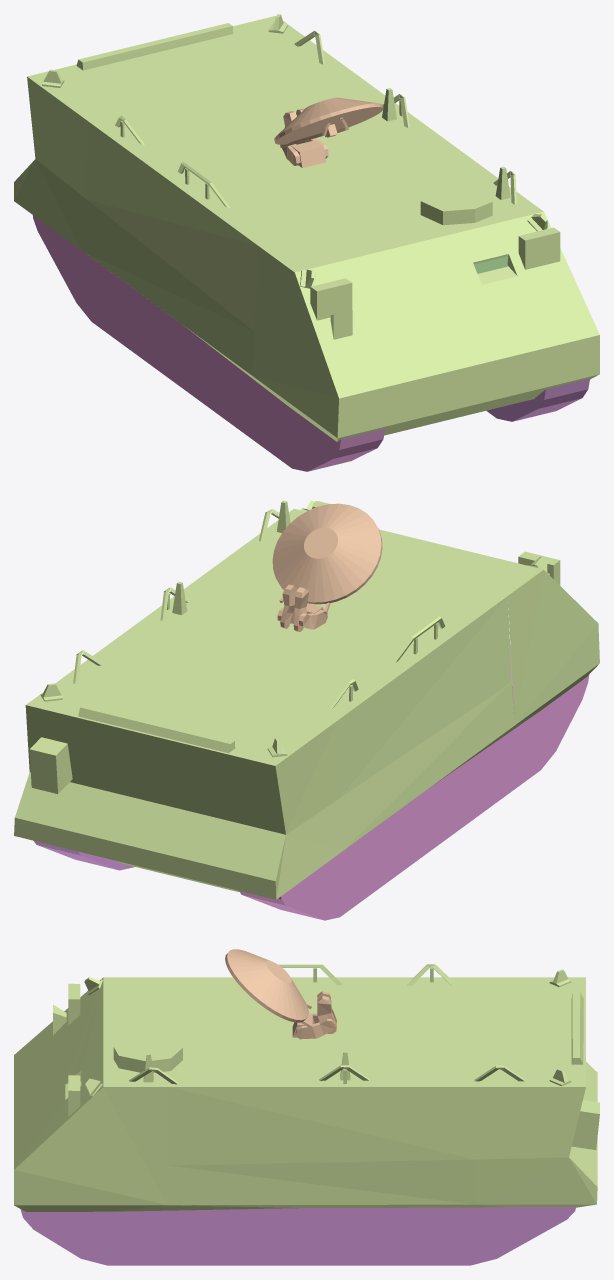
The model's file is land-tracked-leopard-spawn-spw-02.glb.
3 renders of one model, top to bottom at view 1: azimuth 30°, elevation 25°; view 2: azimuth 150°, elevation 25°; view 3: azimuth 270°, elevation 25°, orthographic. The views are drawn at different scales.
Parts seen in each view (by area): view 1: CC_SPW, CC_SPW_02_Rotator_03, CC_SPW_02_Base; view 2: CC_SPW, CC_SPW_02_Rotator_03, CC_SPW_02_Rotator_02; view 3: CC_SPW, CC_SPW_02_Rotator_03, CC_SPW_02_Rotator_01, CC_SPW_02_Rotator_02.
Part boxes in pixels (left/top/right/bottom): CC_SPW: left=14, top=14, right=599, bottom=471; CC_SPW_02_Rotator_03: left=274, top=97, right=383, bottom=144; CC_SPW_02_Base: left=291, top=140, right=326, bottom=167; CC_SPW: left=14, top=500, right=599, bottom=920; CC_SPW_02_Rotator_03: left=272, top=503, right=382, bottom=604; CC_SPW_02_Rotator_02: left=280, top=584, right=308, bottom=631; CC_SPW: left=14, top=964, right=599, bottom=1265; CC_SPW_02_Rotator_03: left=225, top=949, right=308, bottom=1022; CC_SPW_02_Rotator_01: left=295, top=1013, right=334, bottom=1039; CC_SPW_02_Rotator_02: left=317, top=991, right=336, bottom=1033.
Bounding box in the file's own units: 3.49 × 3.58 × 7.47.
